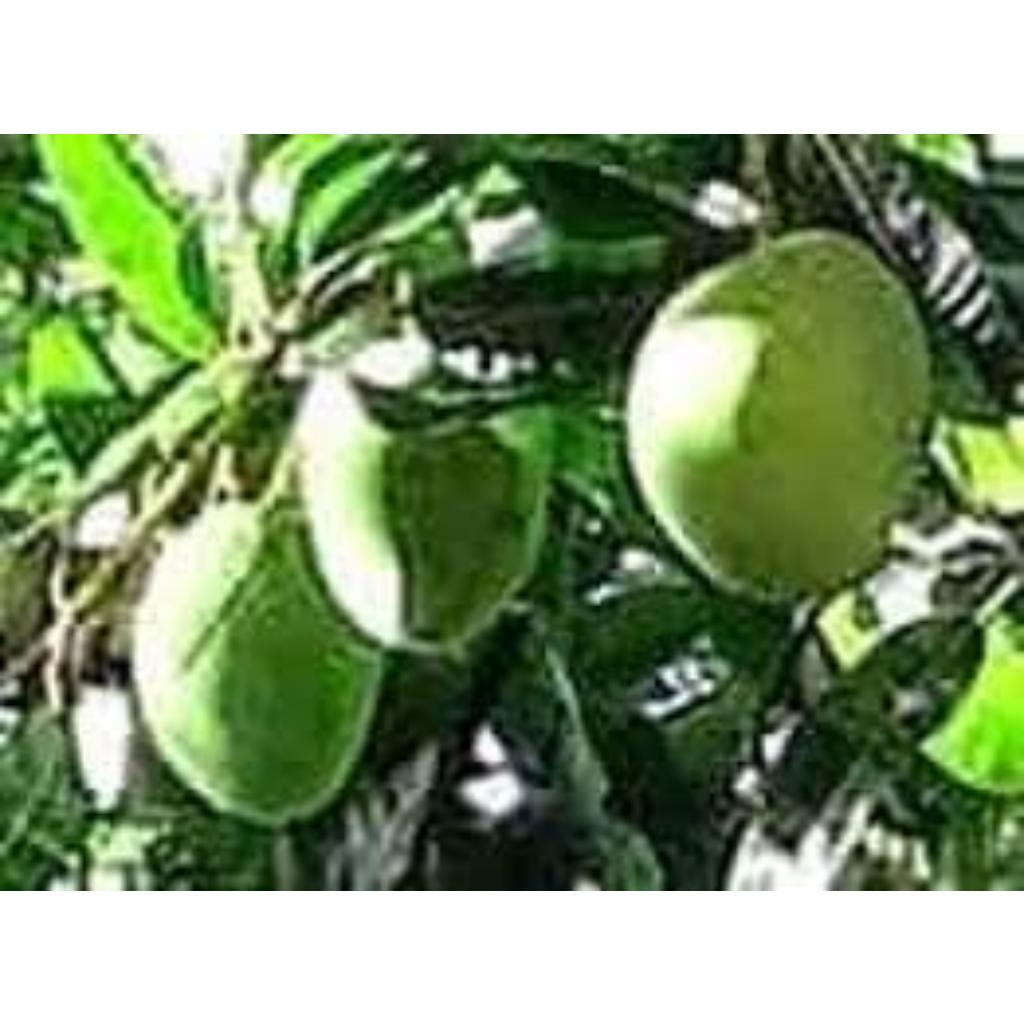mango: (620, 227, 938, 604)
